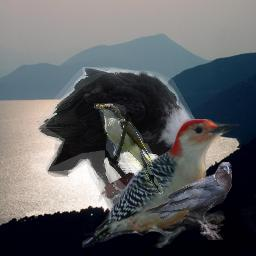Crow: (38, 67, 202, 218), (145, 162, 232, 240)
Cuckoo: (94, 103, 163, 194)
Woodpecker: (82, 119, 242, 248)
